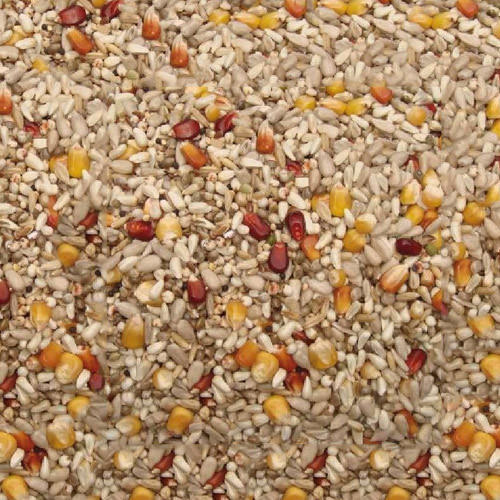seed: (1, 1, 500, 500)
